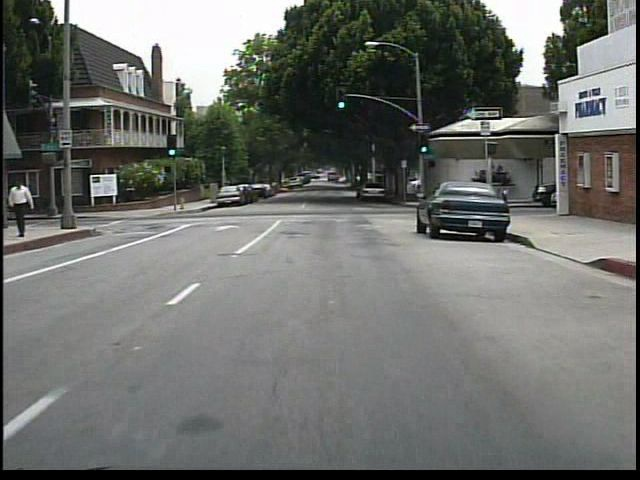person: (14, 176, 41, 239), (504, 170, 510, 206)
